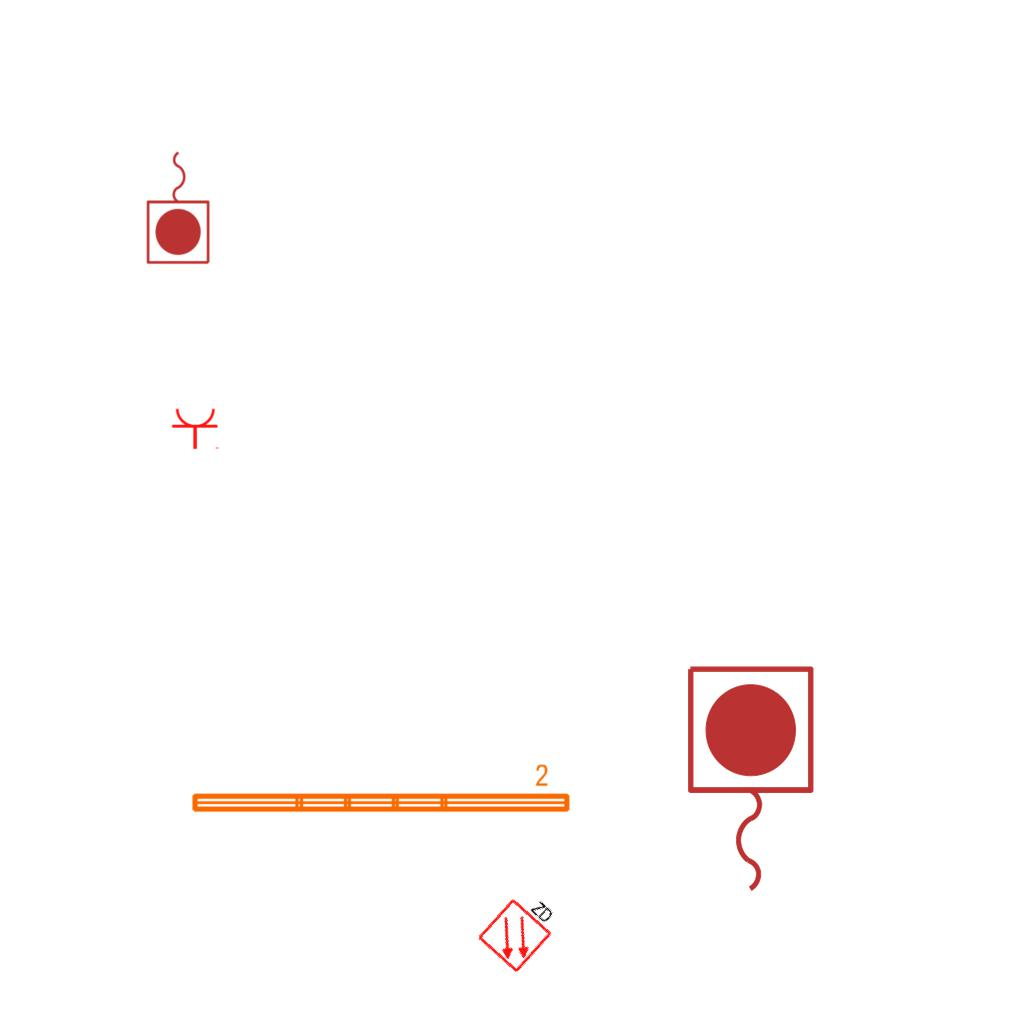Ambulanz_Pendelleuchte_LED: (187, 762, 574, 818)
Schukosteckdose_einfach: (171, 407, 221, 450)
ZD_Melder_in_Zwischendecke_mit_Revisionsoeffnung_mind_40_x_40_cm: (474, 881, 567, 975)
Zugtaster: (677, 658, 821, 902), (143, 146, 215, 268)
